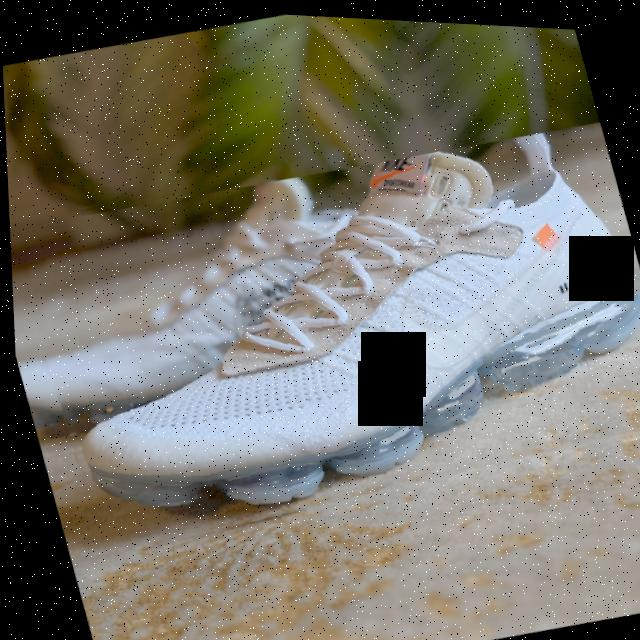shoe: (3, 91, 640, 580), (5, 131, 437, 457)
